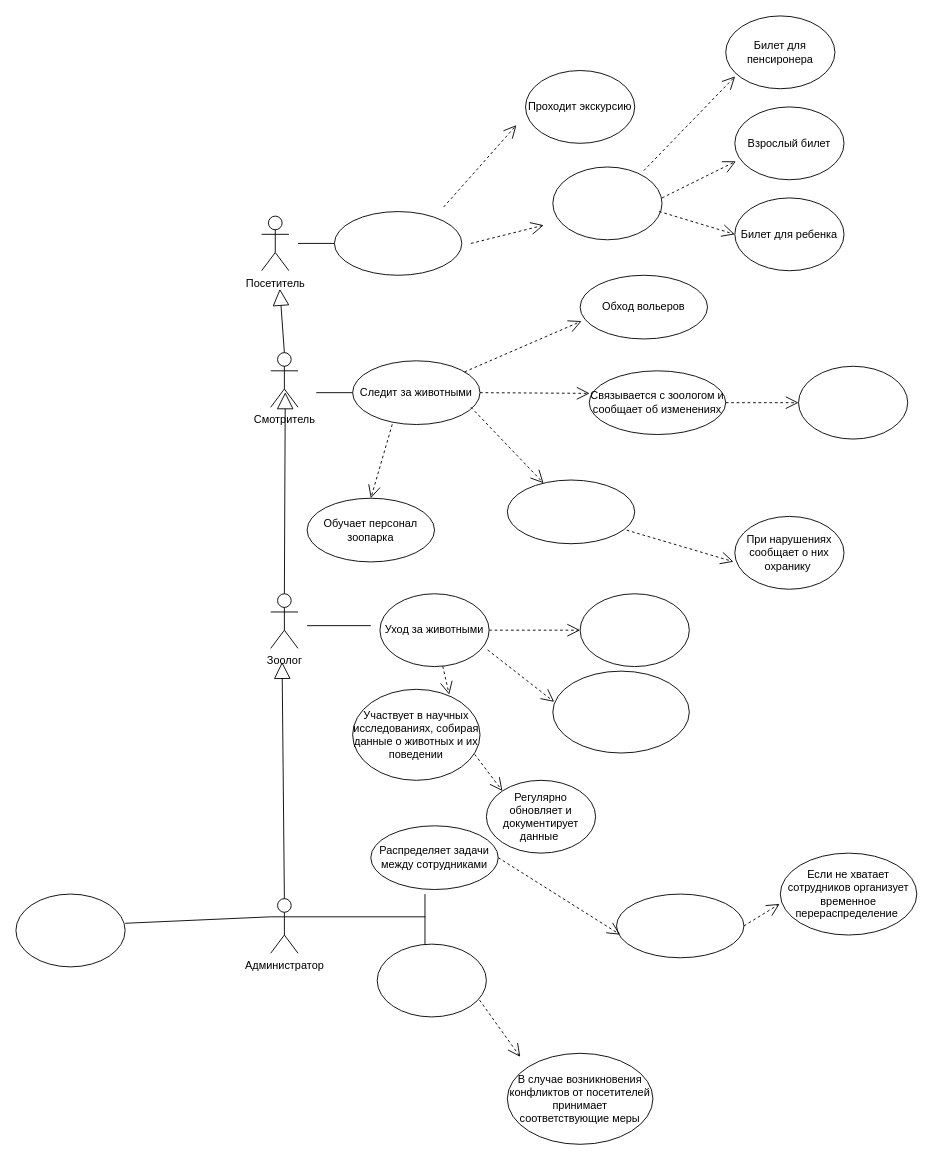
Some shapes in this 933 by 1160 pixel diagram are drawn without their labels. Each missing label, with the centre of its shape:
"В случае необходимости контролирует перемещение животного" belongs at [853,402].
"Координирует техническое обслуживание и ремонт оборудования" belongs at [70,930].
"Наблюдает за посетителями" belongs at [570,511].
"Обеспечивает наличие достаточного числа сотрудников на разных местах" belongs at [680,925].
"Покупка билета" belongs at [607,203].
"При обнаружении изменений в состоянии животного принимает меры для их здоровья" belongs at [620,711].
"Приходит в зоопарк" belongs at [398,243].
"Регулярное наблюдение за животными" belongs at [634,630].
"Соблюдение безопасности и комфорта посетителей" belongs at [431,980].
